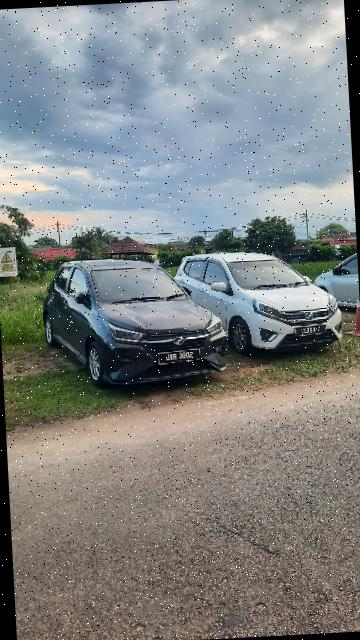License_Plate: (156, 348, 204, 366), (293, 324, 332, 339)
car: (40, 253, 231, 392), (176, 245, 347, 362)
